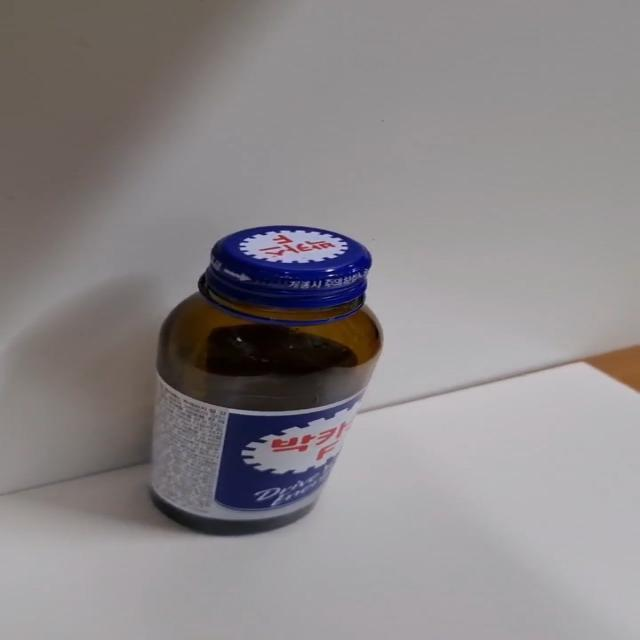Glass: (147, 225, 384, 538)
